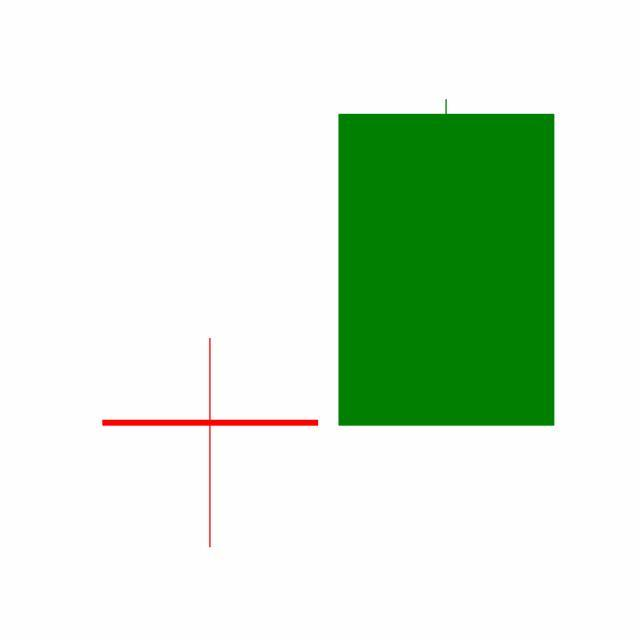Marubozu: (328, 96, 566, 429)
